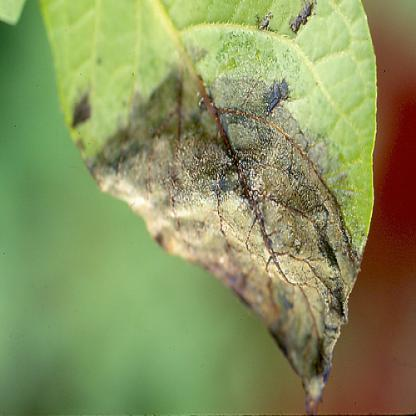Potato leaf late blight: (42, 1, 378, 414)
